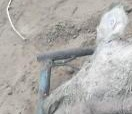text: (97, 9, 126, 34)
